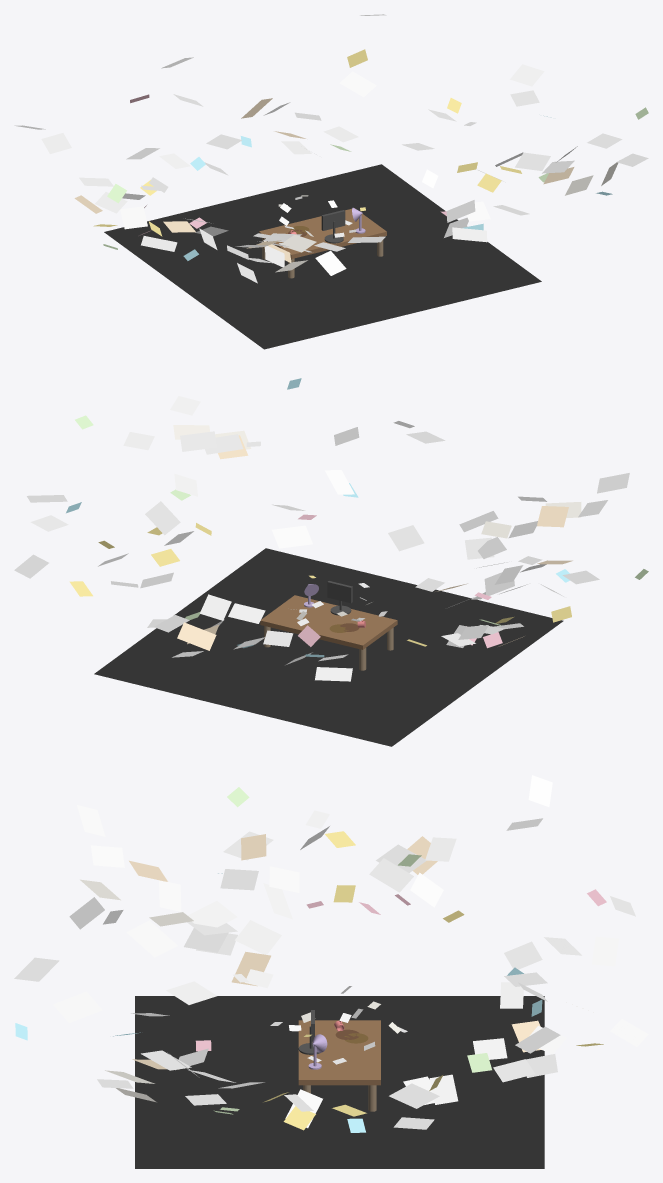
File: desk3.glb
The picture shows the model from 3 angles, top to bottom: view 1: azimuth 30°, elevation 25°; view 2: azimuth 150°, elevation 25°; view 3: azimuth 270°, elevation 25°; orthographic projection. The views are drawn at different scales.
Parts seen in each view (by area): view 1: Floor, Office_Desk, Flying_Paper_22.001, Flying_Paper_19.001; view 2: Floor, Office_Desk, Flying_Paper_8.001, Flying_Folder_6, Flying_Paper_9, Folder_7_Paper_4, Flying_Paper_7, Flying_Folder_1, Folder_6_Paper_2; view 3: Floor, Office_Desk, Flying_Paper_15.001, Folder_5_Paper_1, Flying_Paper_16, Folder_3_Paper_1, Folder_1_Paper_2.001, Folder_2_Paper_1, Flying_Paper_18, Flying_Paper_20.001, Flying_Paper_7, Folder_5_Paper_3 (+18 smaller).
Boxes of the visible parts, left/top/right/bottom form: Floor: left=104, top=164, right=541, bottom=349; Office_Desk: left=259, top=208, right=386, bottom=258; Flying_Paper_22.001: left=120, top=206, right=147, bottom=229; Flying_Paper_19.001: left=339, top=71, right=376, bottom=97; Floor: left=94, top=548, right=563, bottom=746; Office_Desk: left=260, top=595, right=397, bottom=649; Flying_Paper_8.001: left=272, top=525, right=312, bottom=548; Flying_Folder_6: left=177, top=622, right=216, bottom=650; Flying_Paper_9: left=145, top=501, right=180, bottom=535; Folder_7_Paper_4: left=180, top=431, right=216, bottom=451; Flying_Paper_7: left=388, top=525, right=424, bottom=551; Flying_Folder_1: left=537, top=506, right=568, bottom=527; Folder_6_Paper_2: left=200, top=594, right=231, bottom=620; Floor: left=135, top=996, right=544, bottom=1168; Office_Desk: left=298, top=1020, right=380, bottom=1085; Flying_Paper_15.001: left=126, top=920, right=177, bottom=957; Folder_5_Paper_1: left=235, top=920, right=281, bottom=954; Flying_Paper_16: left=53, top=991, right=102, bottom=1022; Folder_3_Paper_1: left=369, top=858, right=413, bottom=892; Folder_1_Paper_2.001: left=187, top=901, right=237, bottom=927; Folder_2_Paper_1: left=220, top=869, right=258, bottom=890; Flying_Paper_18: left=389, top=1083, right=439, bottom=1108; Flying_Paper_20.001: left=592, top=936, right=618, bottom=966; Flying_Paper_7: left=166, top=981, right=216, bottom=1004; Folder_5_Paper_3: left=184, top=928, right=228, bottom=952.
Bounding box in the file's own units: 9.7 × 2.49 × 7.75.
